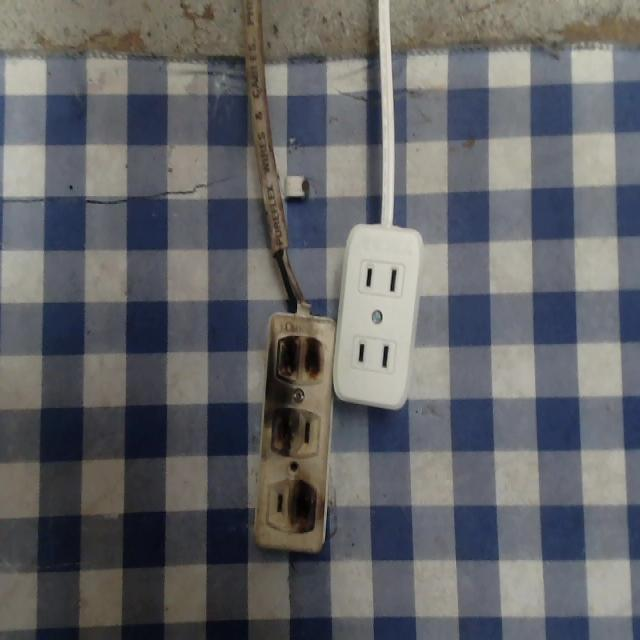-: (276, 331, 337, 392), (289, 479, 326, 549), (265, 405, 299, 464)
